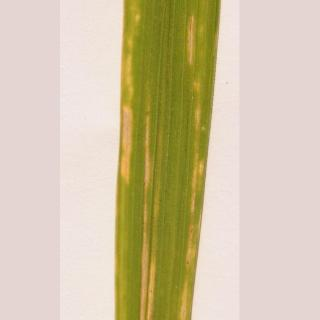Hawar-Daun: (171, 24, 210, 320), (108, 1, 141, 184), (134, 106, 159, 320)
